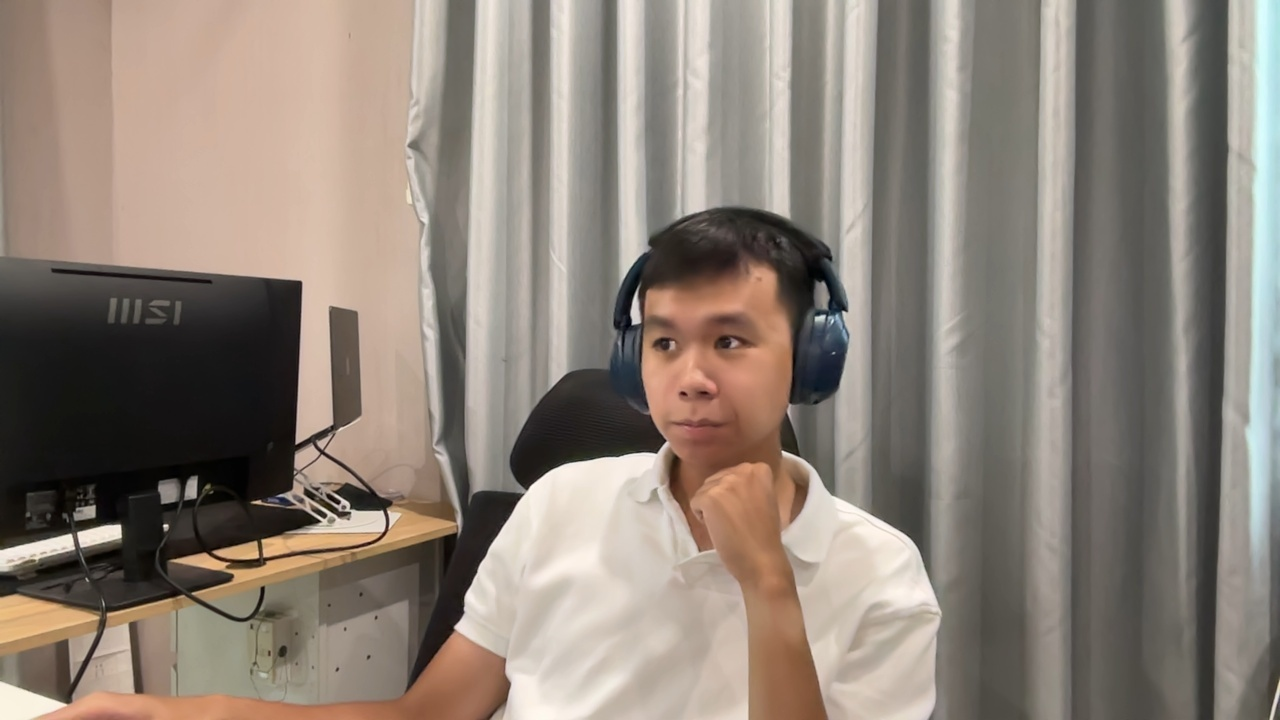over_ear: (612, 206, 853, 412), (607, 249, 657, 418)
